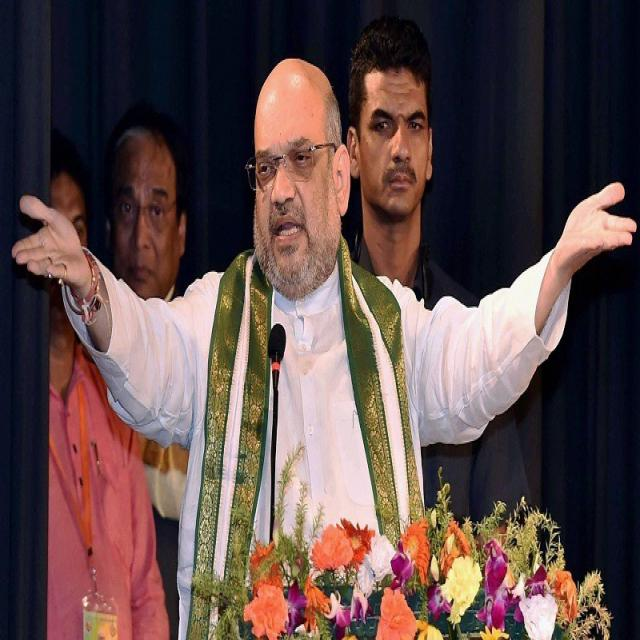body: (8, 51, 637, 640), (340, 23, 474, 520), (48, 129, 170, 637), (110, 112, 190, 630)
